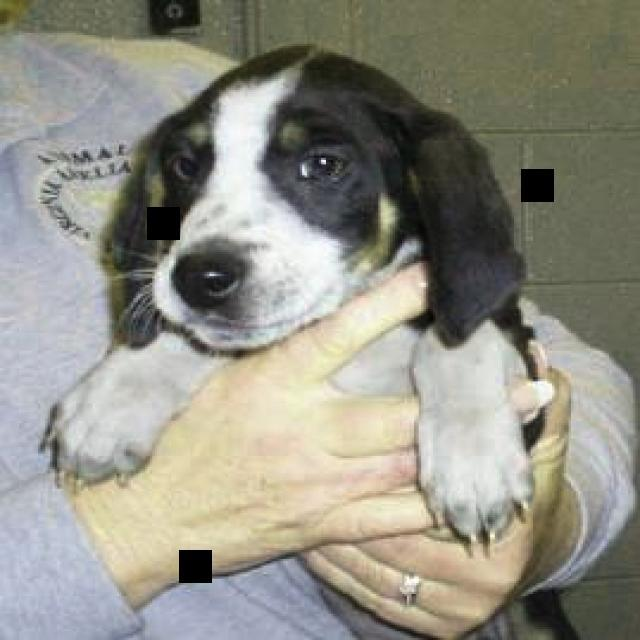puppy-dog: (38, 40, 542, 542)
